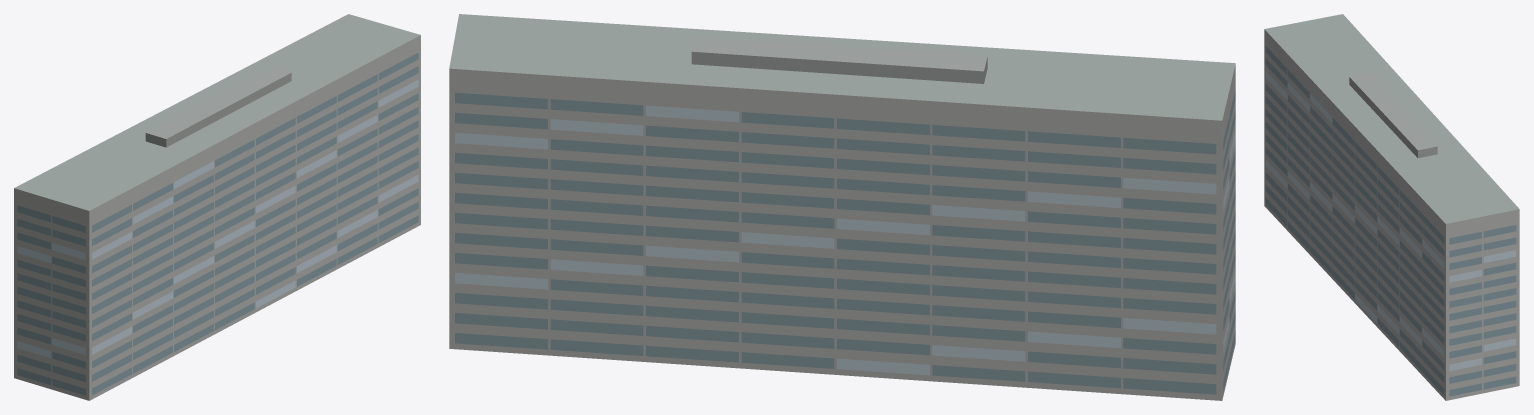
The model's file is fallback-daechi-eunma-18.glb.
3 renders of one model, left to right at view 1: azimuth 30°, elevation 25°; view 2: azimuth 150°, elevation 25°; view 3: azimuth 270°, elevation 25°, orthographic. The views are drawn at different scales.
Visible parts, largest first — view 1: fallback-daechi-eunma-18; view 2: fallback-daechi-eunma-18; view 3: fallback-daechi-eunma-18.
Boxes of the visible parts, x1,y1,x2,y2 form: fallback-daechi-eunma-18: (14,14,420,400); fallback-daechi-eunma-18: (449,14,1235,400); fallback-daechi-eunma-18: (1264,14,1519,400).
Bounding box in the file's own units: 109 × 44.62 × 55.85.
